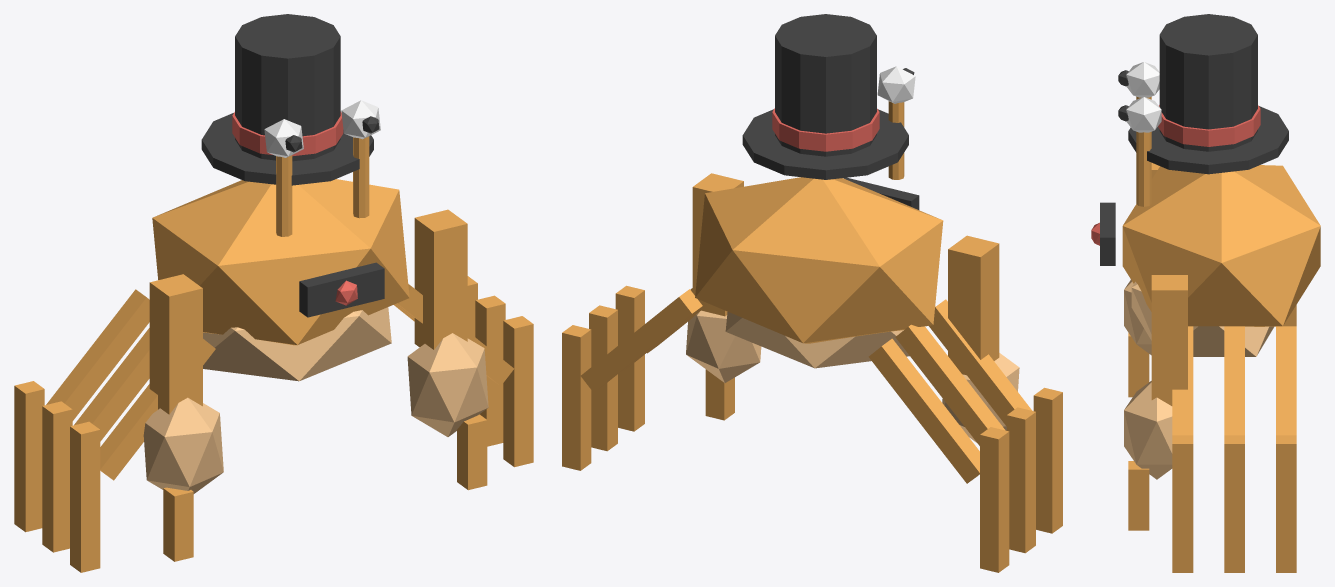
The model's file is VendorCrab.fbx.
The picture shows the model from 3 angles, left to right: view 1: azimuth 30°, elevation 25°; view 2: azimuth 150°, elevation 25°; view 3: azimuth 270°, elevation 25°; orthographic projection. The views are drawn at different scales.
Parts seen in each view (by area): view 1: Body, Part_Head, Part_ArmR, Part_ArmL; view 2: Body, Part_Head, Part_ArmL, Part_ArmR; view 3: Body, Part_Head, Part_ArmR, Part_ArmL.
Part boxes in pixels (x1,y1,x2,y2): Body: (14,179,533,572); Part_Head: (201,14,380,236); Part_ArmR: (407,209,488,490); Part_ArmL: (143,274,223,561); Body: (562,177,1062,572); Part_Head: (742,14,915,179); Part_ArmL: (942,235,1019,442); Part_ArmR: (686,173,761,420); Body: (1091,165,1320,572); Part_Head: (1118,14,1288,206); Part_ArmR: (1124,275,1187,530); Part_ArmL: (1124,163,1159,397).
Bounding box in the file's own units: 1.88 × 1.85 × 0.8868.
